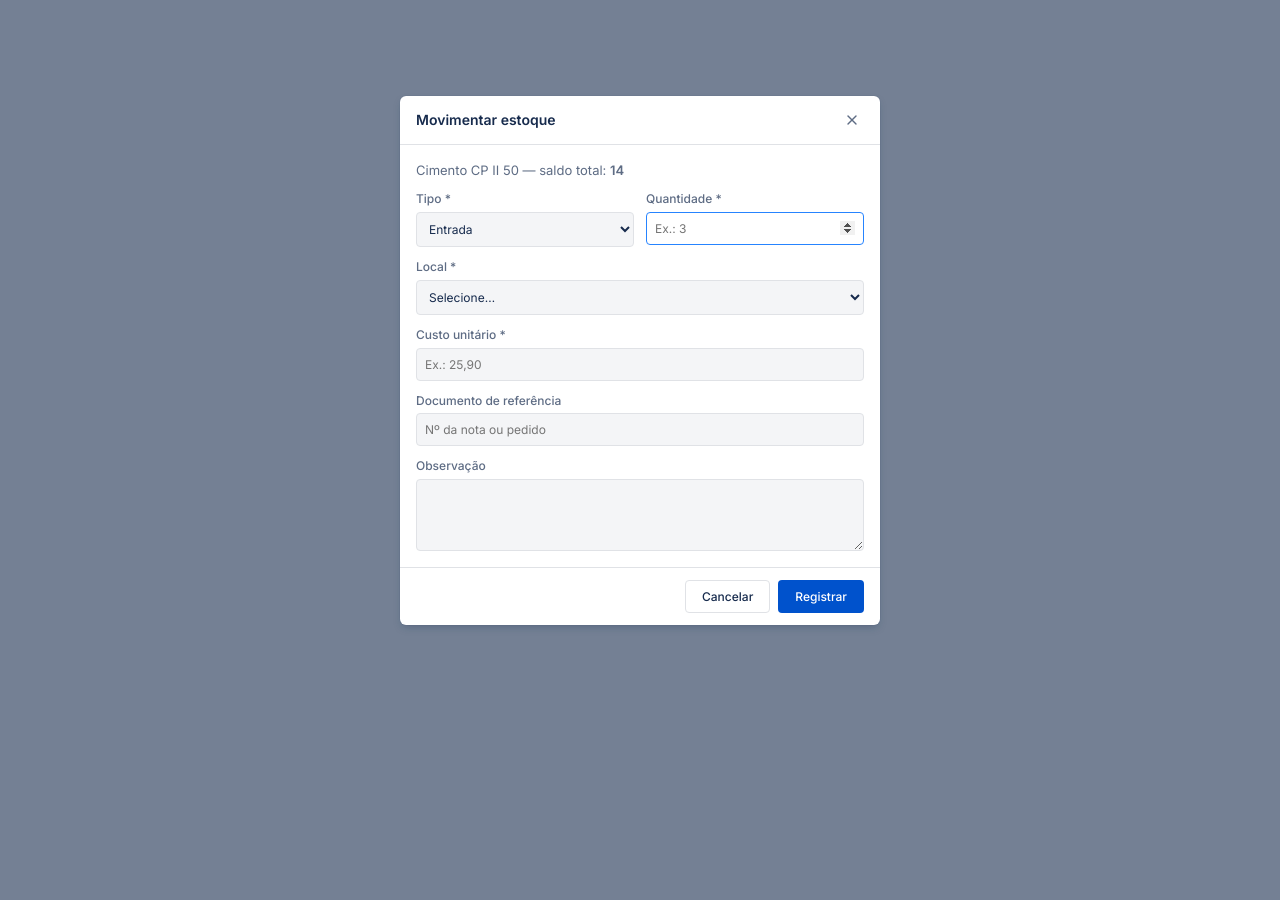
Test: MovimentoModal › trata local sem saldo como disponível zero
Select "Perda" in the dropdown labelled "Tipo *" at (525, 230), box [416, 212, 634, 247]
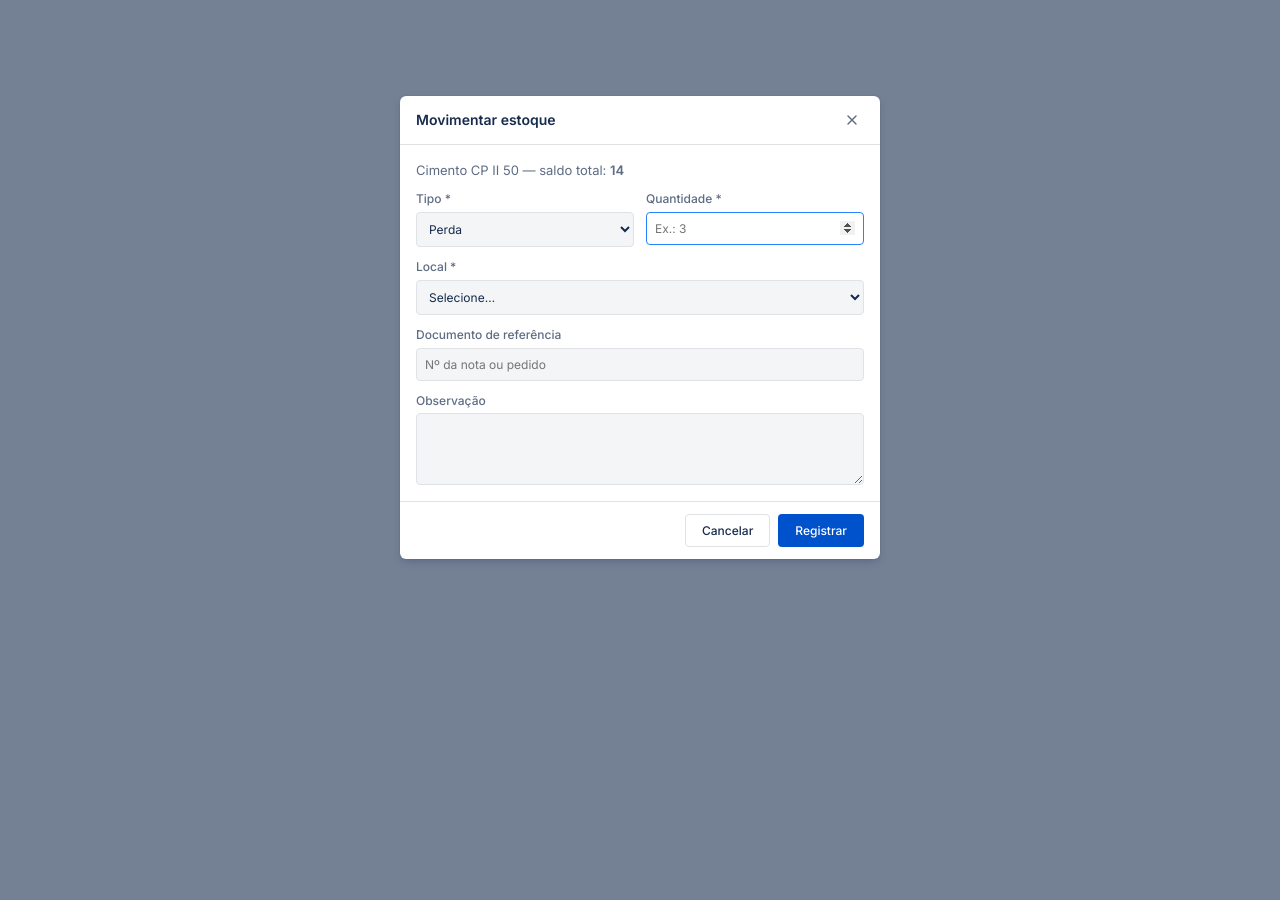
Select "Recife · Gigante" in the dropdown labelled "Local *" at (640, 297), box [416, 280, 864, 315]
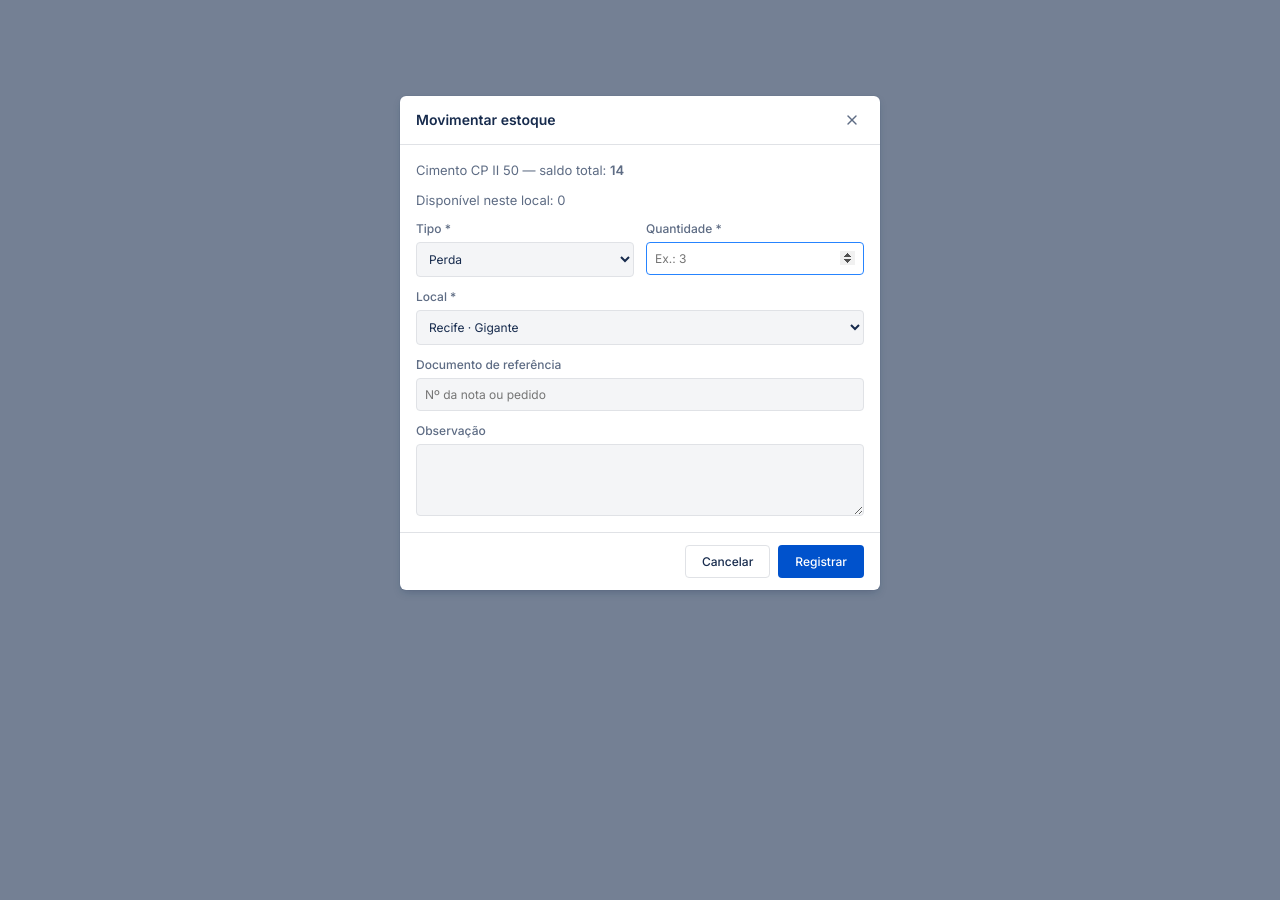
Type "1" into the number field labelled "Quantidade *".
click(755, 259); type("1")  # box [646, 242, 864, 275]
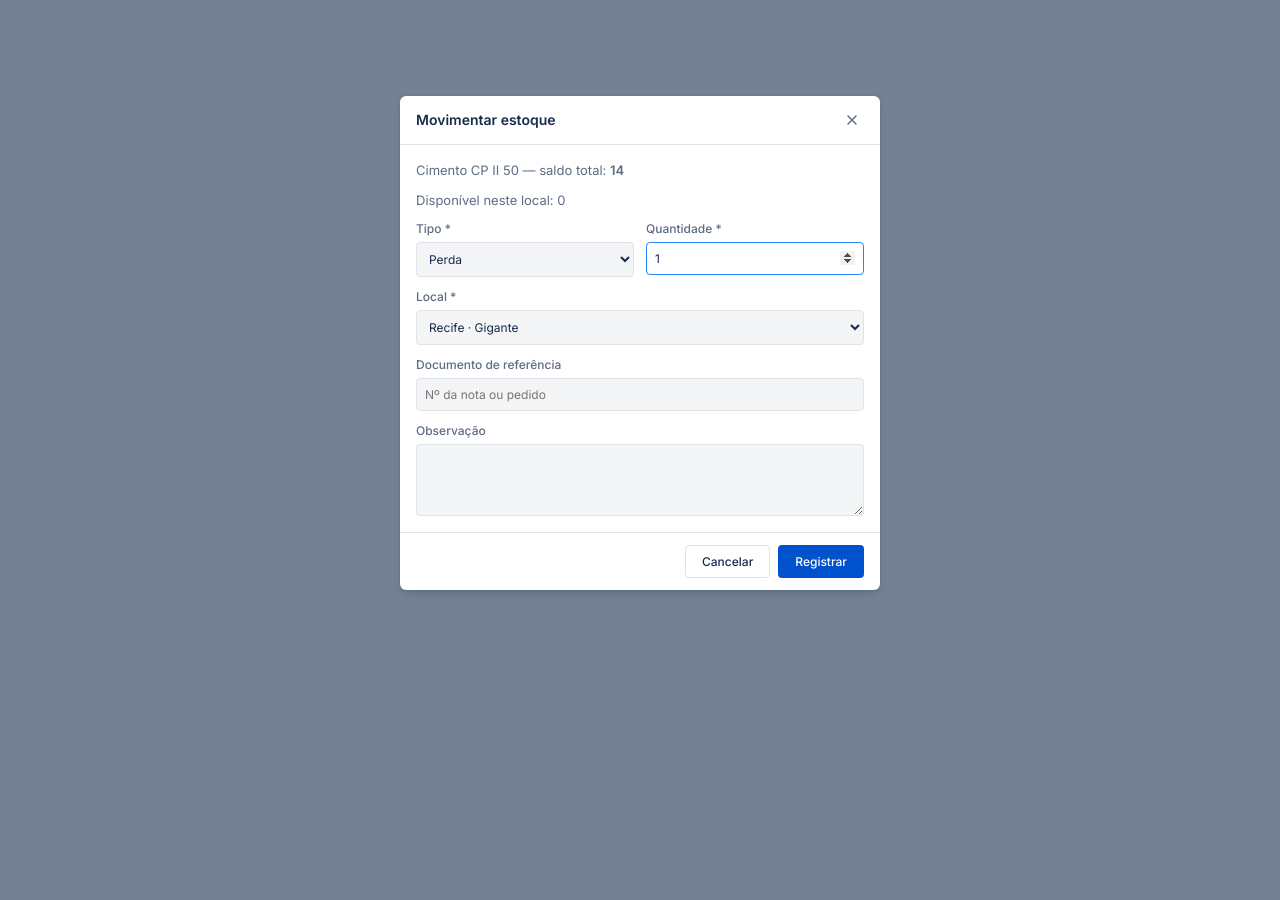
Click the button "Registrar".
click(821, 561)  # box [778, 545, 864, 578]
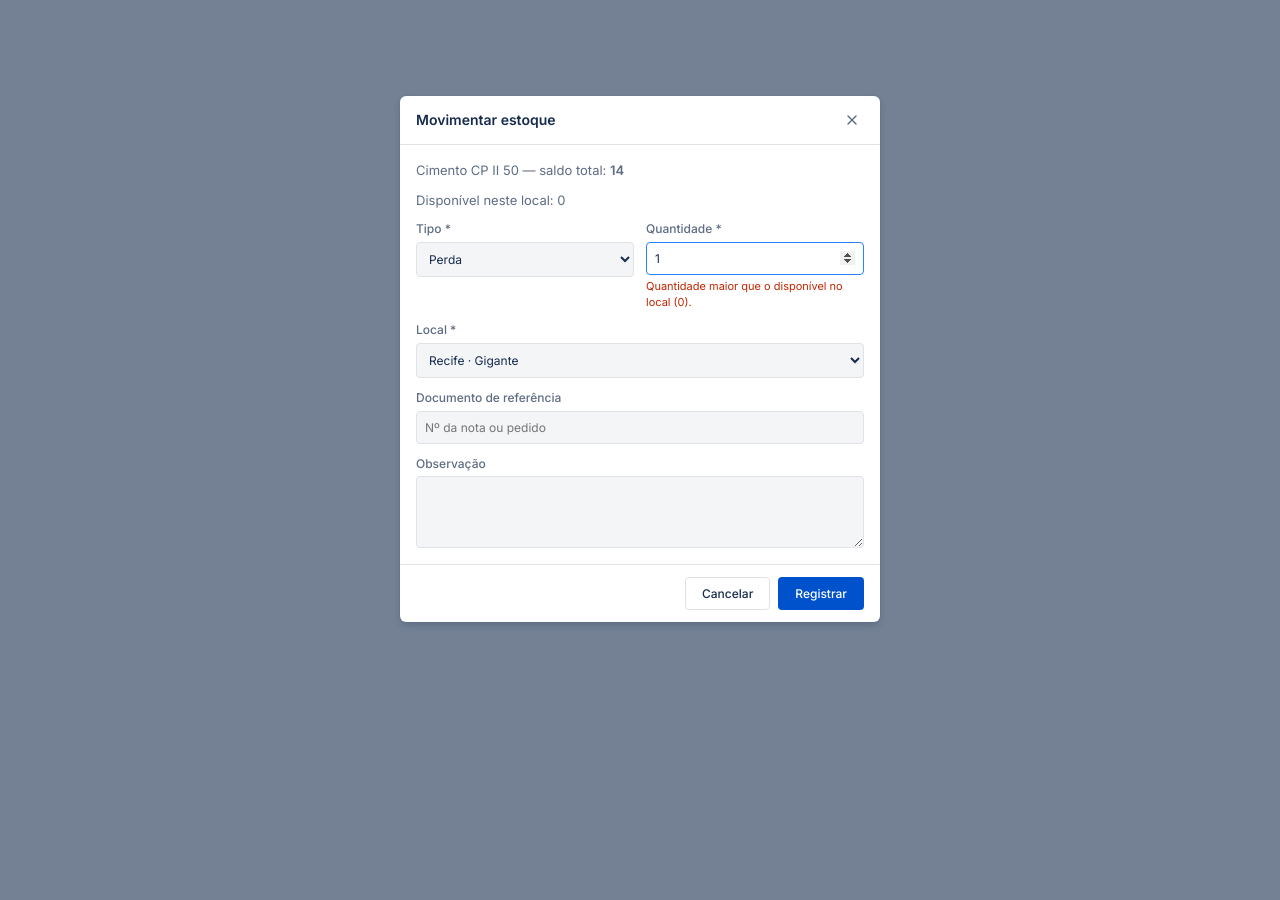
Result: the text "Quantidade maior que o disponível no local (0)." is shown at [646, 279, 864, 310]
